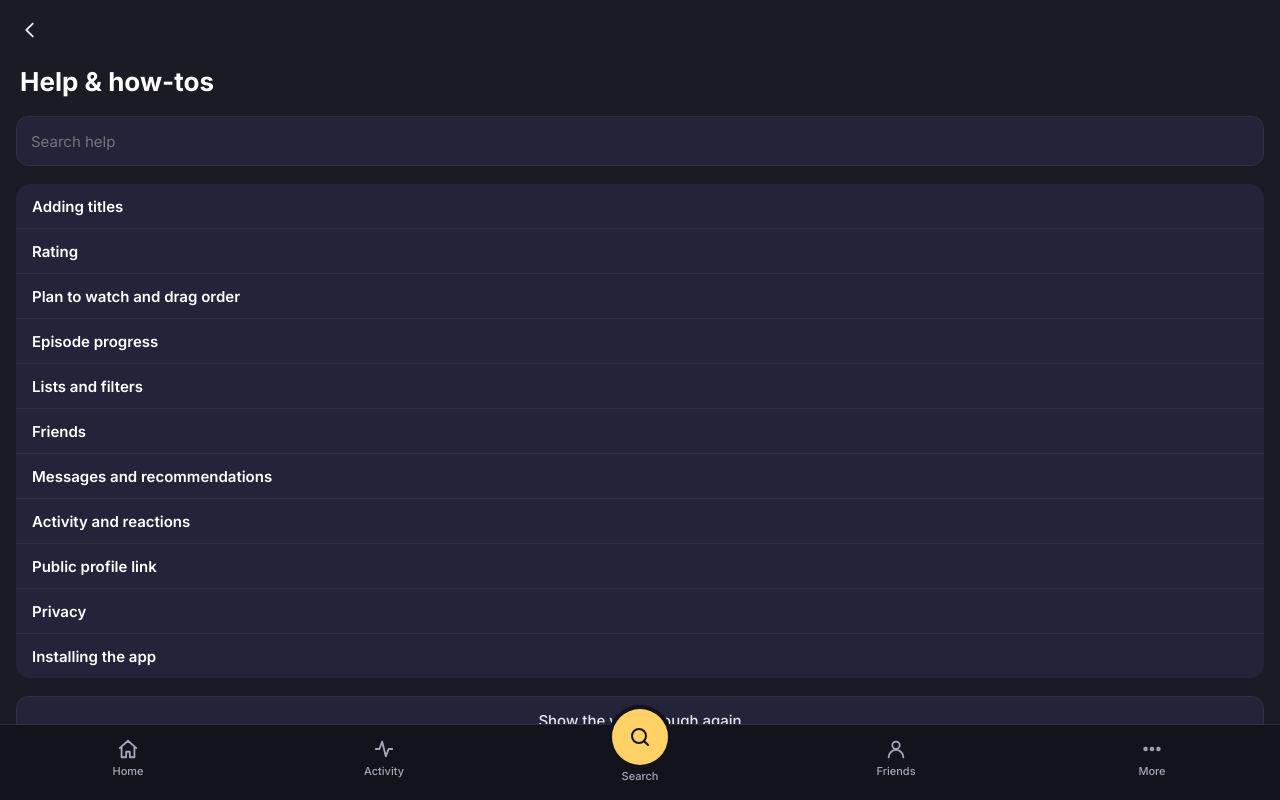
Scenario: Help & how-tos › lists the sections, each a closed collapsible that opens on tap; no Admin section for a non-admin
Expected: the heading "Help & how-tos" is shown, [20,64,214,100]
Expected: the heading "Rating" is shown, [32,242,78,261]
Click the heading "Adding titles" at (78, 206), box [32,197,123,216]
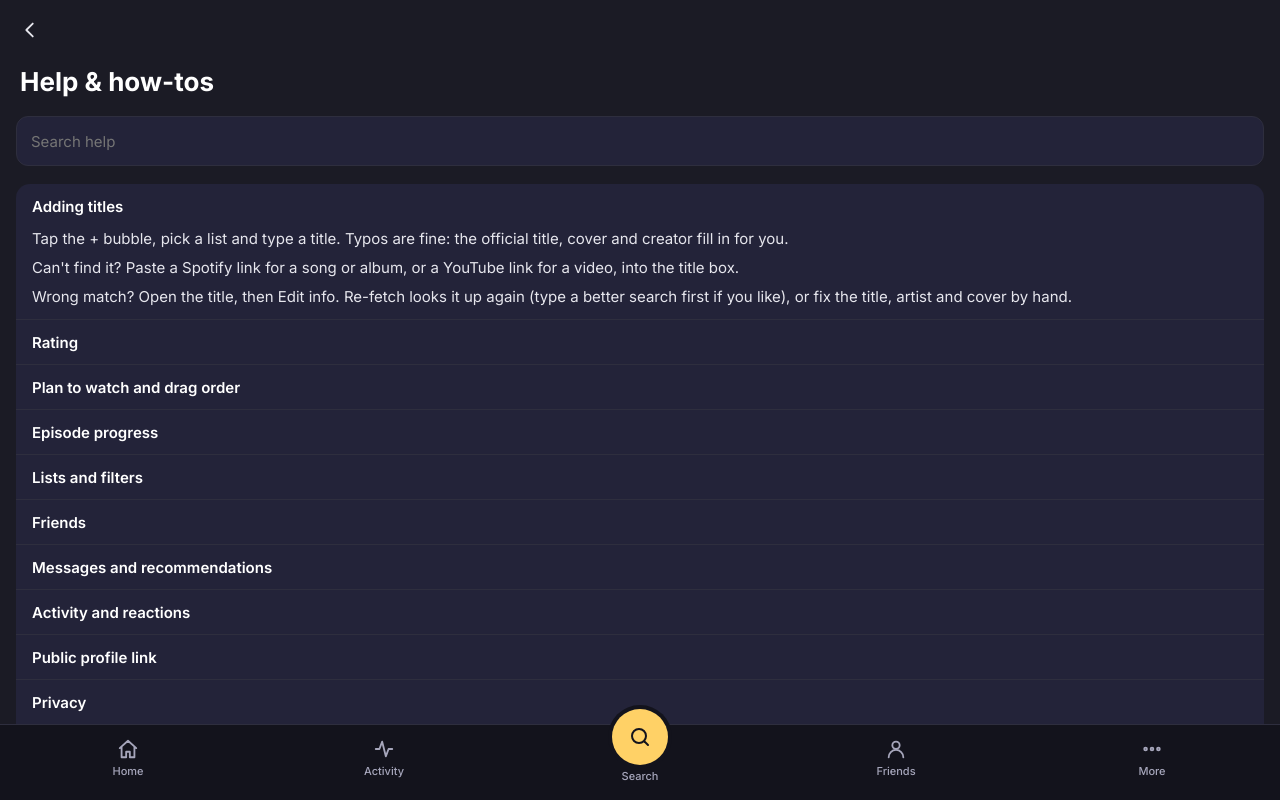
Expected: the text "Paste a Spotify link" is shown, [32,258,739,277]
